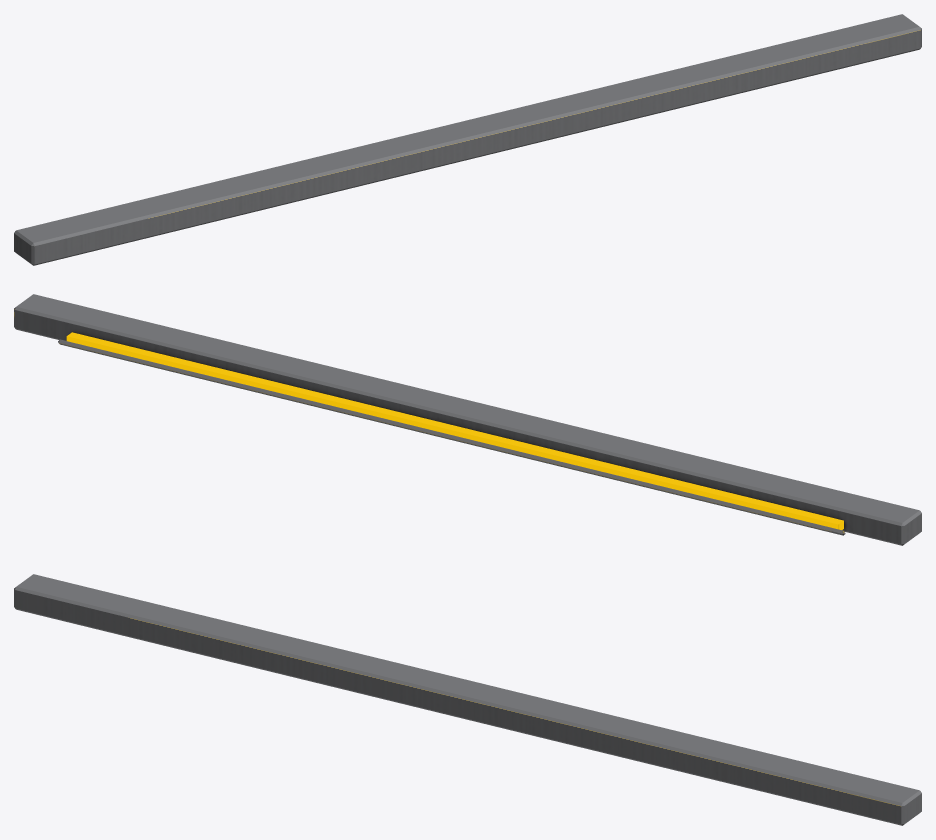
File: nodexeus-set-edge-lit.glb
3 renders of one model, top to bottom at view 1: azimuth 30°, elevation 25°; view 2: azimuth 150°, elevation 25°; view 3: azimuth 330°, elevation 25°, orthographic.
Parts seen in each view (by area): view 1: set-edge-lit; view 2: set-edge-lit; view 3: set-edge-lit.
Boxes of the visible parts, box(x1,y1,x2,y2) form: set-edge-lit: box(14, 14, 921, 265); set-edge-lit: box(14, 294, 921, 545); set-edge-lit: box(14, 574, 921, 825).
Bounding box in the file's own units: 5.7 × 0.14 × 0.305.
Materials: 1 (1 with a texture image).
